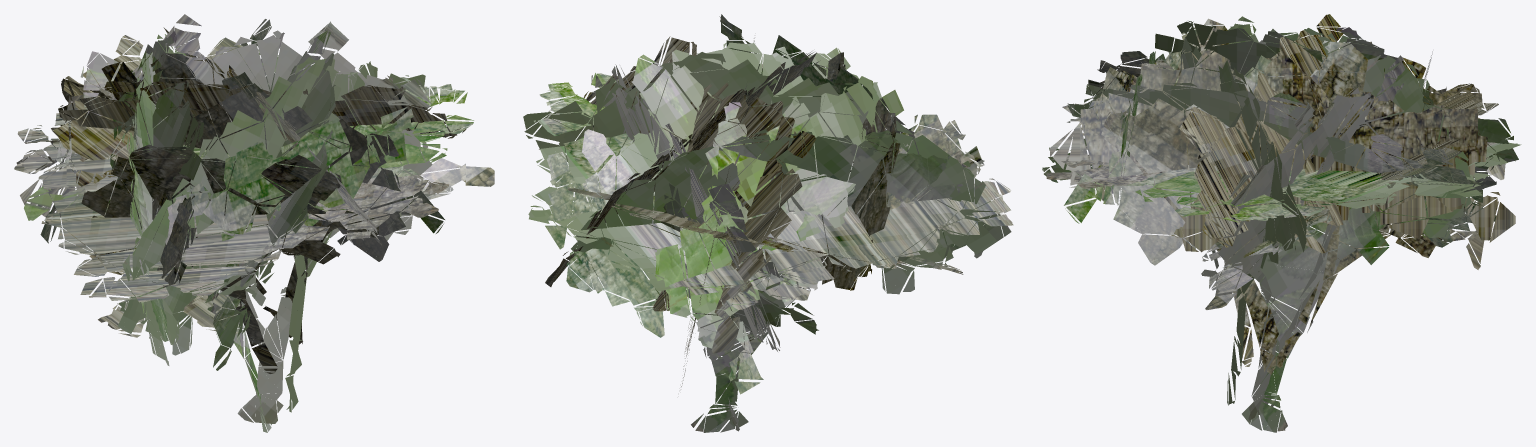
3 renders of one model, left to right at view 1: azimuth 30°, elevation 25°; view 2: azimuth 150°, elevation 25°; view 3: azimuth 270°, elevation 25°, orthographic.
Parts seen in each view (by area): view 1: pMesh1; view 2: pMesh1; view 3: pMesh1.
Part boxes in pixels (<box>): pMesh1: <box>14,14,494,432</box>; pMesh1: <box>523,14,1013,432</box>; pMesh1: <box>1042,14,1521,432</box>.
Size of the model in its own units: 358 by 290 by 333.
